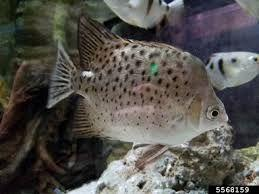Scat Fish: (49, 17, 228, 170)
